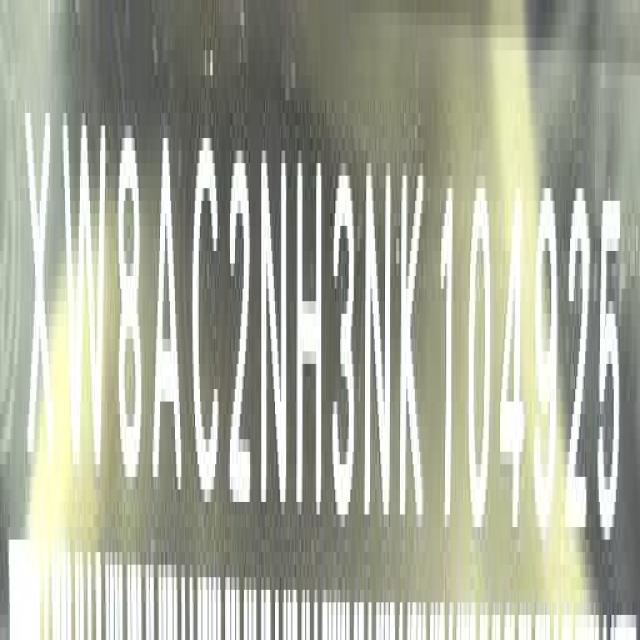0: (466, 162, 494, 548)
1: (440, 158, 454, 553)
2: (226, 144, 253, 516), (566, 186, 591, 553)
3: (332, 158, 357, 534)
4: (499, 186, 526, 530)
5: (597, 186, 621, 544)
8: (114, 135, 145, 483)
9: (533, 186, 560, 544)
A: (152, 116, 182, 516)
C: (190, 121, 220, 502)
H: (296, 130, 324, 521)
K: (400, 177, 425, 530)
N: (259, 130, 288, 516), (364, 144, 392, 535)
W: (61, 102, 108, 488)
X: (23, 98, 56, 492)
